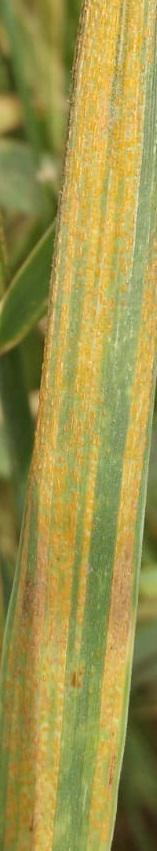Wheat: (12, 273, 153, 836), (54, 30, 146, 270)
